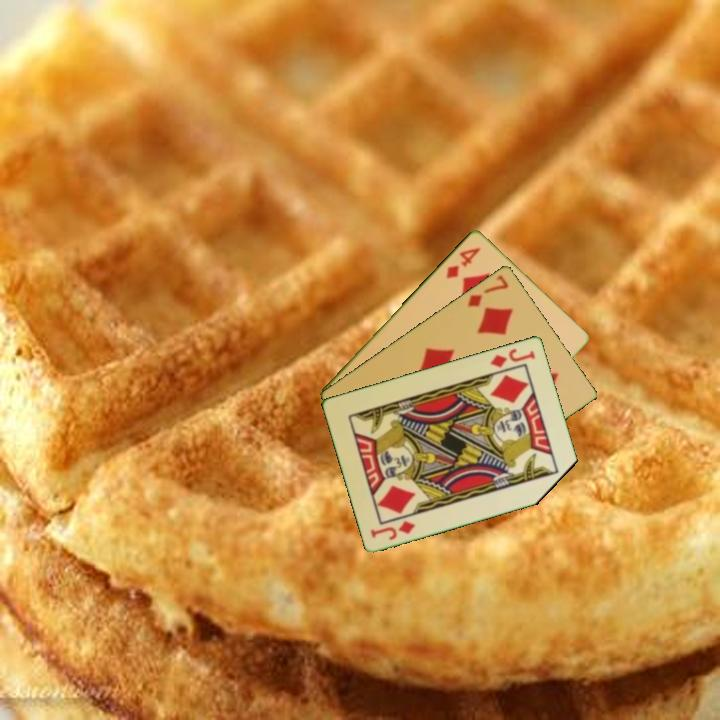4d: (442, 243, 483, 281)
7d: (464, 271, 512, 310)
Jd: (367, 517, 418, 543), (487, 345, 538, 370)
